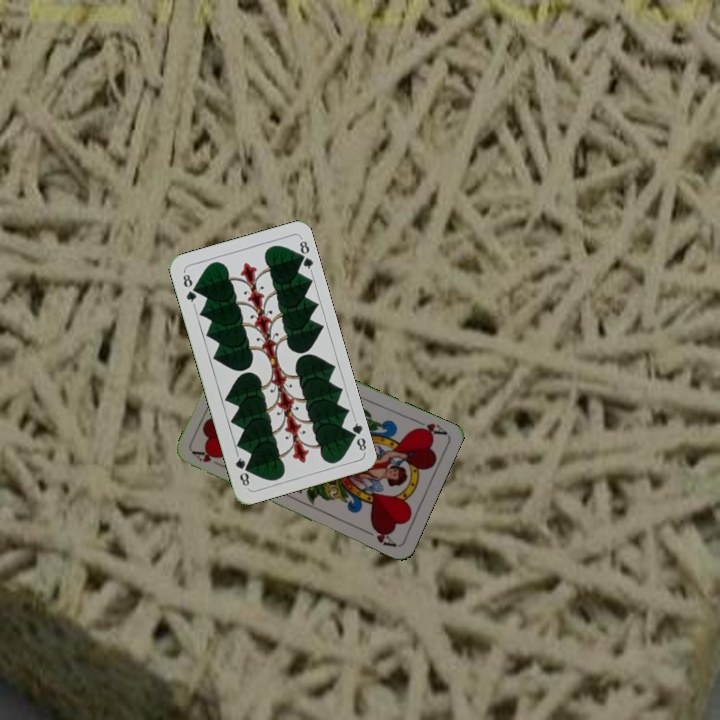G8: (344, 415, 369, 455), (179, 268, 199, 308)
HA: (410, 415, 449, 439), (189, 447, 228, 470)
